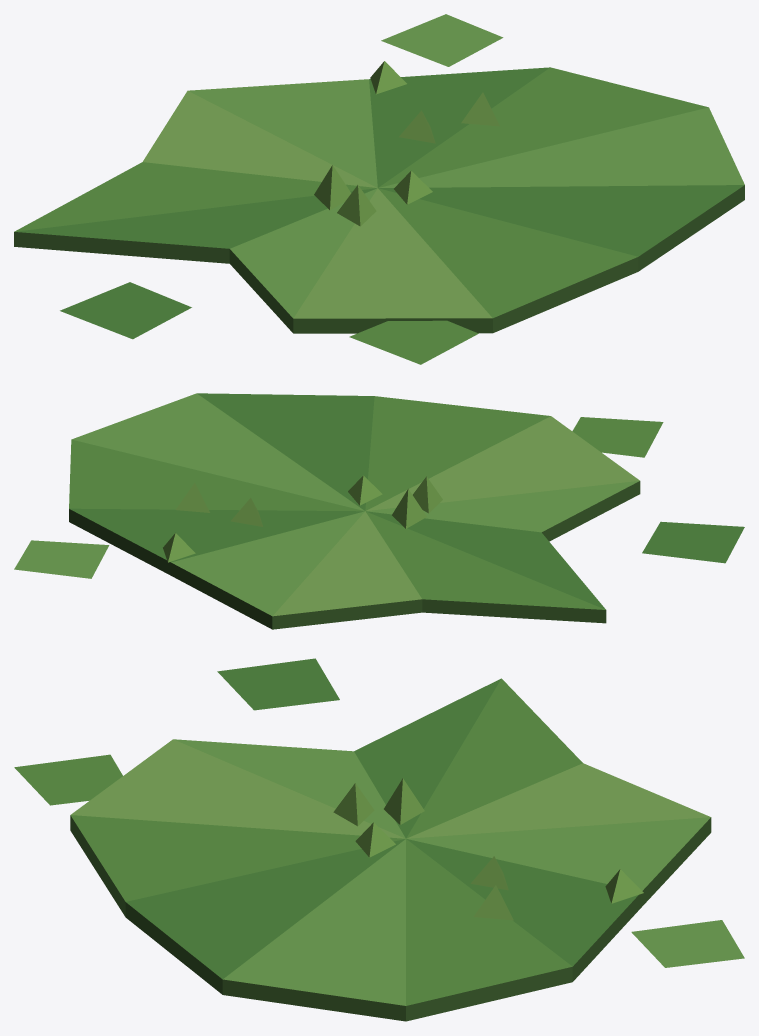
File: moss_patch.glb
3 renders of one model, top to bottom at view 1: azimuth 30°, elevation 25°; view 2: azimuth 150°, elevation 25°; view 3: azimuth 270°, elevation 25°, orthographic. The views are drawn at different scales.
Parts seen in each view (by area): view 1: moss_patch; view 2: moss_patch; view 3: moss_patch.
Boxes of the visible parts, x1=… form: moss_patch: x1=14, y1=14, x2=744, y2=364; moss_patch: x1=14, y1=393, x2=744, y2=629; moss_patch: x1=14, y1=658, x2=744, y2=1021.
Bounding box in the file's own units: 1.21 × 0.0847 × 1.07.
